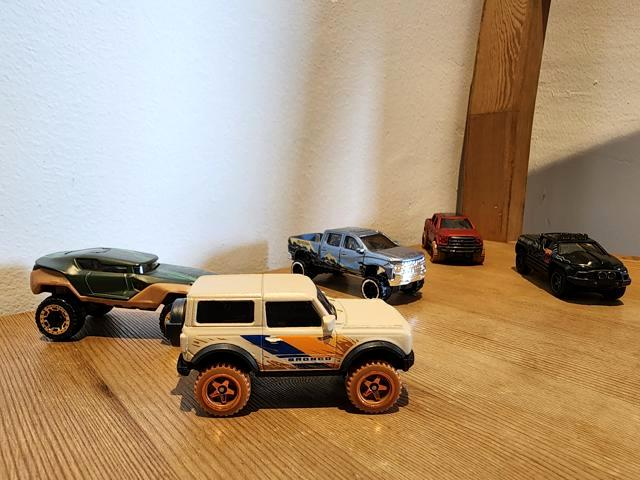toy-car: (165, 274, 414, 417), (30, 247, 215, 341), (287, 227, 426, 301), (514, 232, 631, 301), (422, 213, 485, 265)
